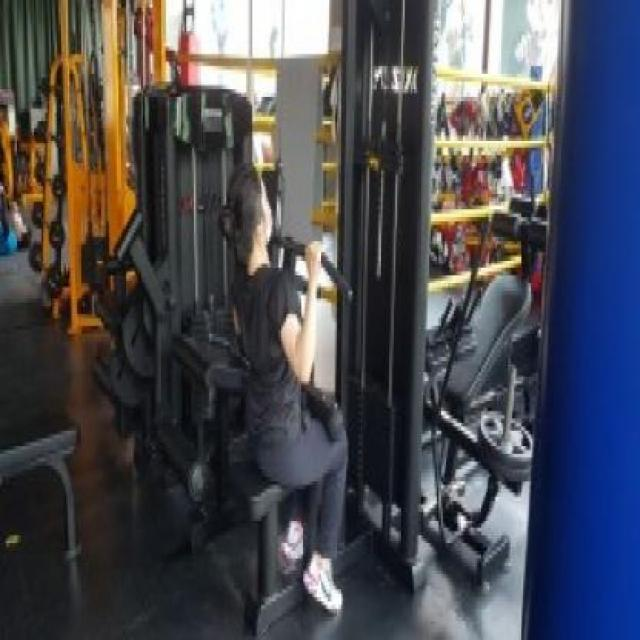Lat Pull Down: (202, 0, 450, 640)
